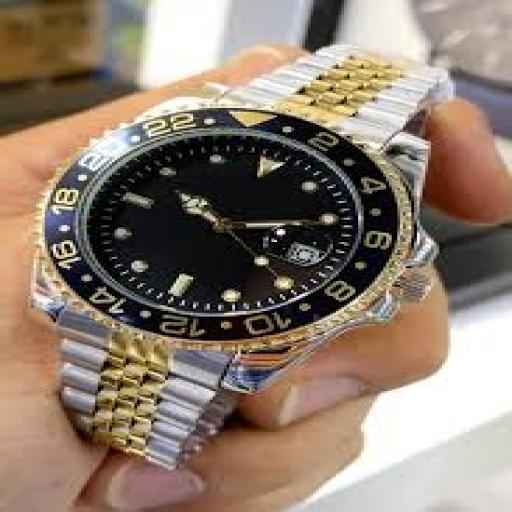KolSaati: (22, 28, 486, 482)
